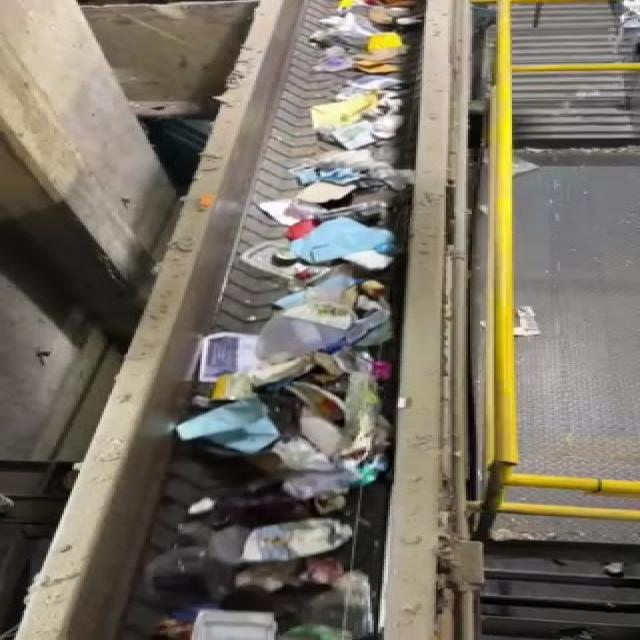paper: (185, 510, 368, 562), (182, 395, 290, 455), (334, 373, 402, 464)
pp: (312, 569, 380, 640)
